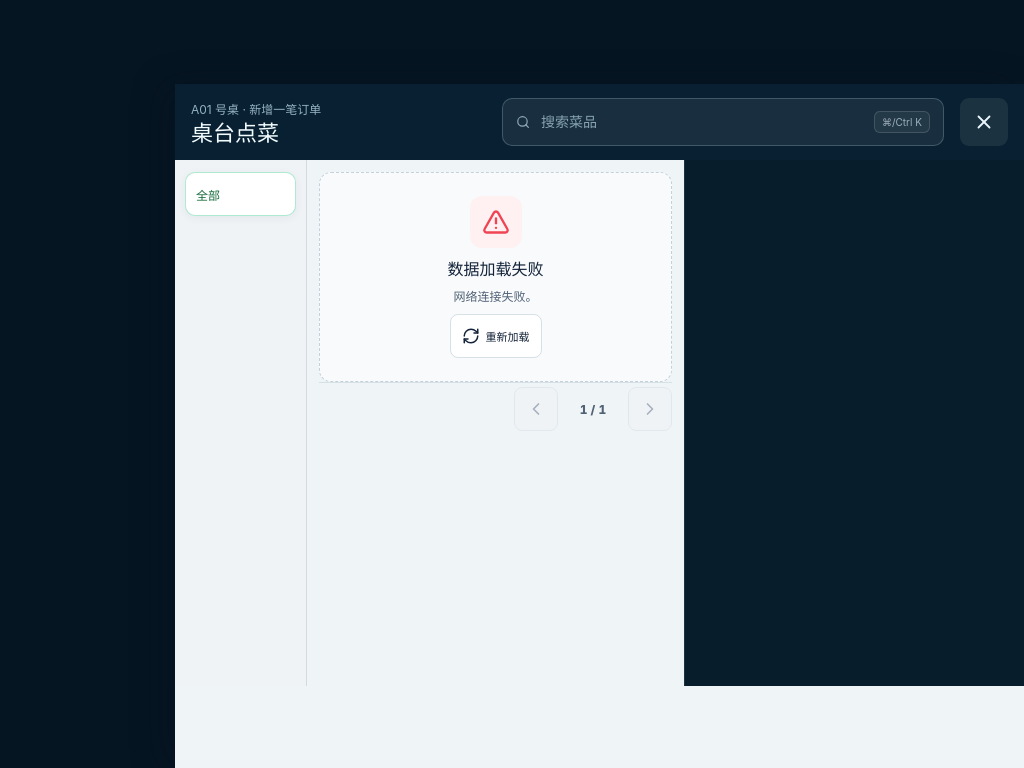
TableOrderingWorkspace shared-controller UI › shows a recoverable catalog failure and reloads from the visible retry action
Click the button "重新加载".
click(496, 336)  # box x1=450 y1=314 x2=542 y2=358
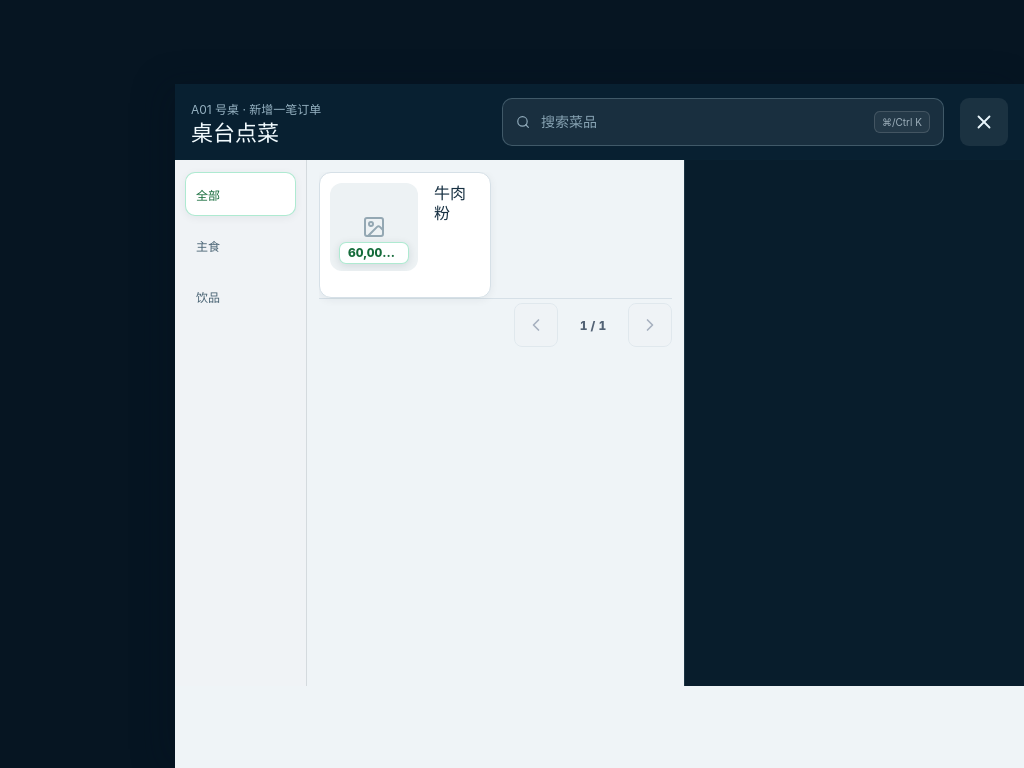
Expected: the text "牛肉粉" is shown, x1=434 y1=183 x2=466 y2=223
